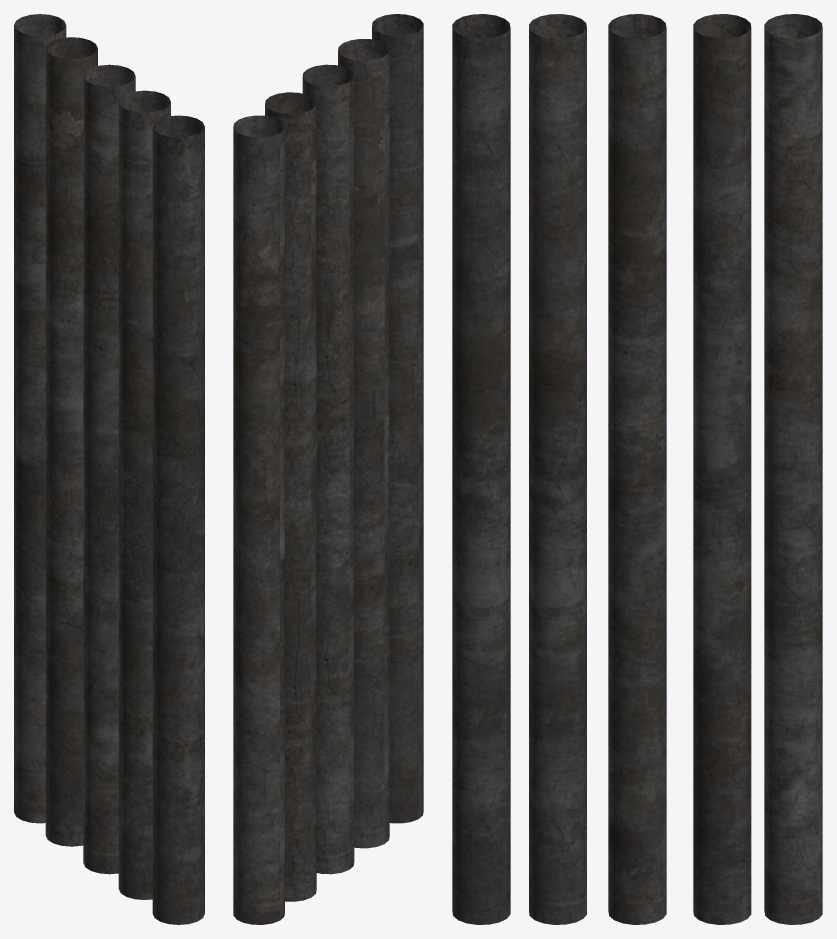
File: Shaft_Pipes_B.glb
The picture shows the model from 3 angles, left to right: view 1: azimuth 30°, elevation 25°; view 2: azimuth 150°, elevation 25°; view 3: azimuth 270°, elevation 25°; orthographic projection. The views are drawn at different scales.
Parts seen in each view (by area): view 1: Shaft_Pipes_B; view 2: Shaft_Pipes_B; view 3: Shaft_Pipes_B.
Part boxes in pixels (x1,y1,x2,y2): Shaft_Pipes_B: (14, 14, 204, 924); Shaft_Pipes_B: (233, 14, 423, 924); Shaft_Pipes_B: (452, 14, 822, 924).
Bounding box in the file's own units: 0.1487 × 2.5 × 0.9465.
1 material, 1 textured.
